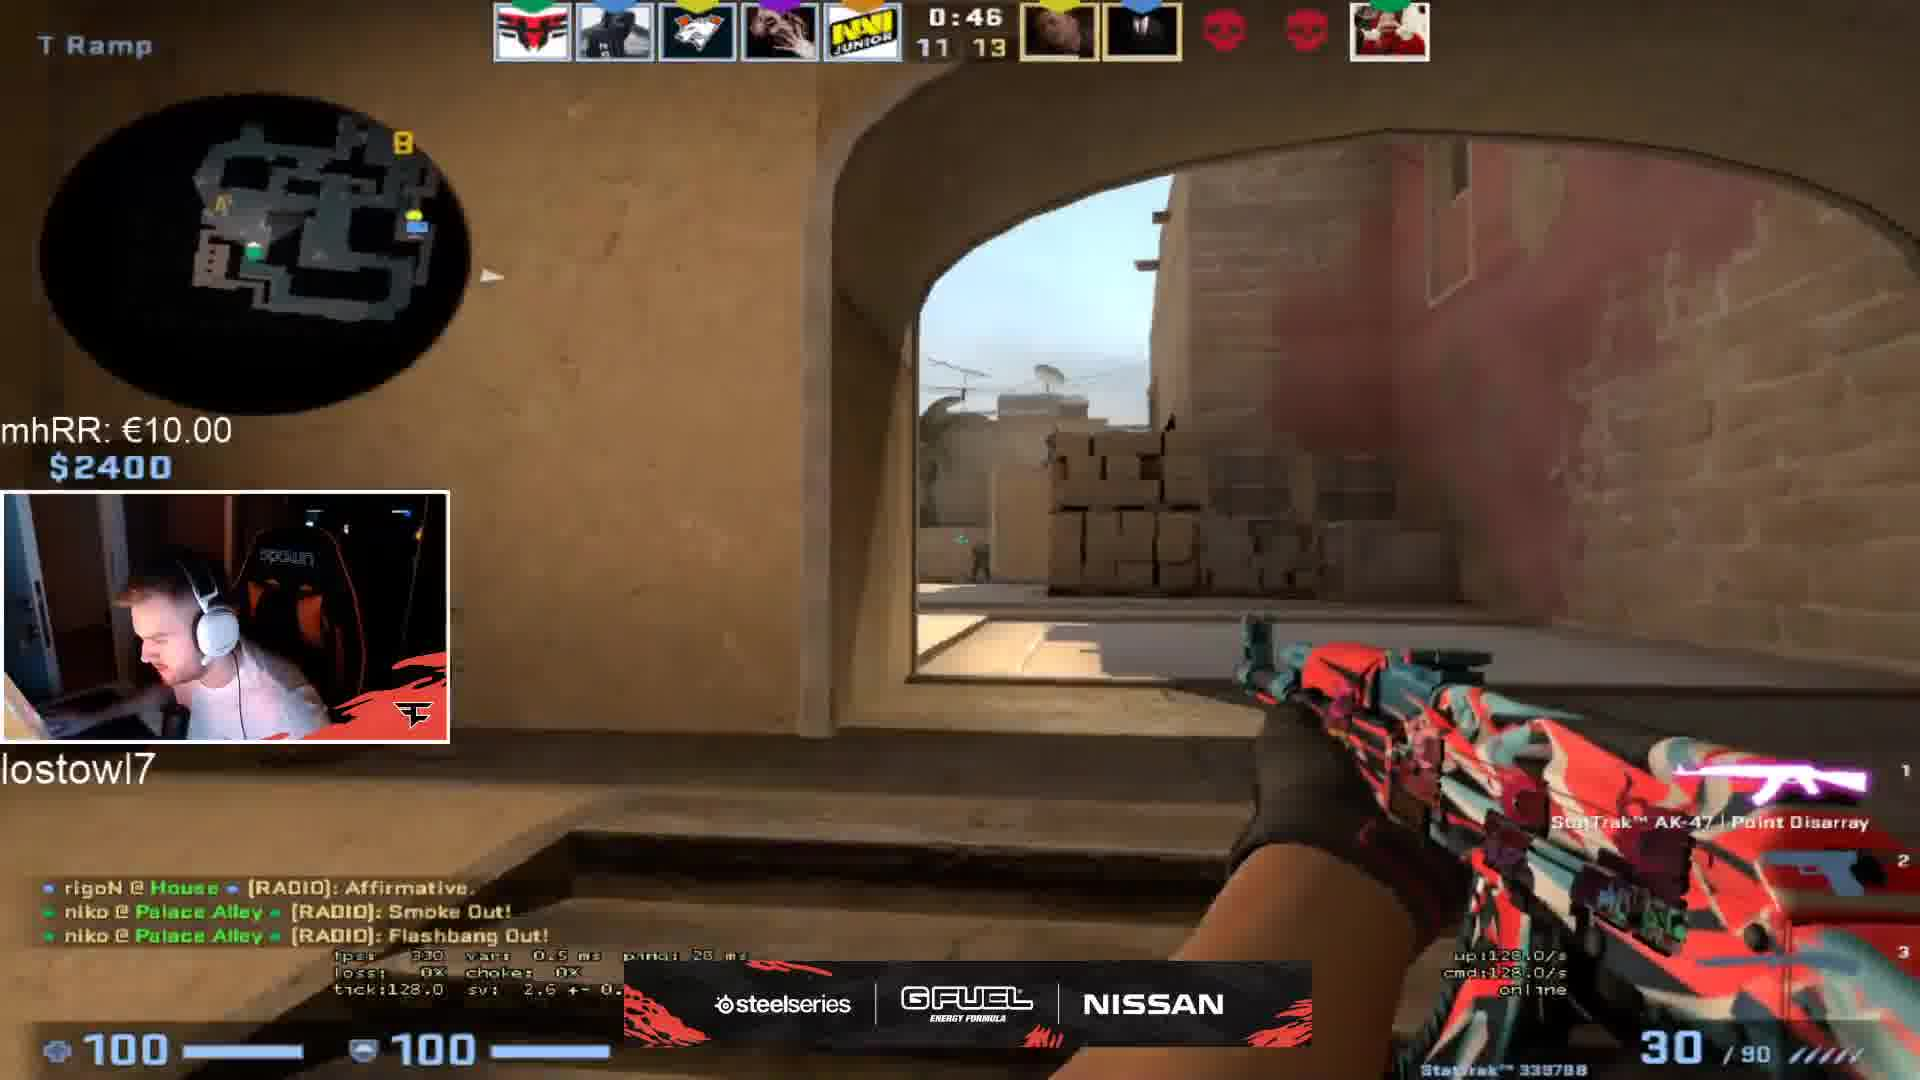enemy: (961, 535, 996, 589), (1040, 425, 1064, 471)
